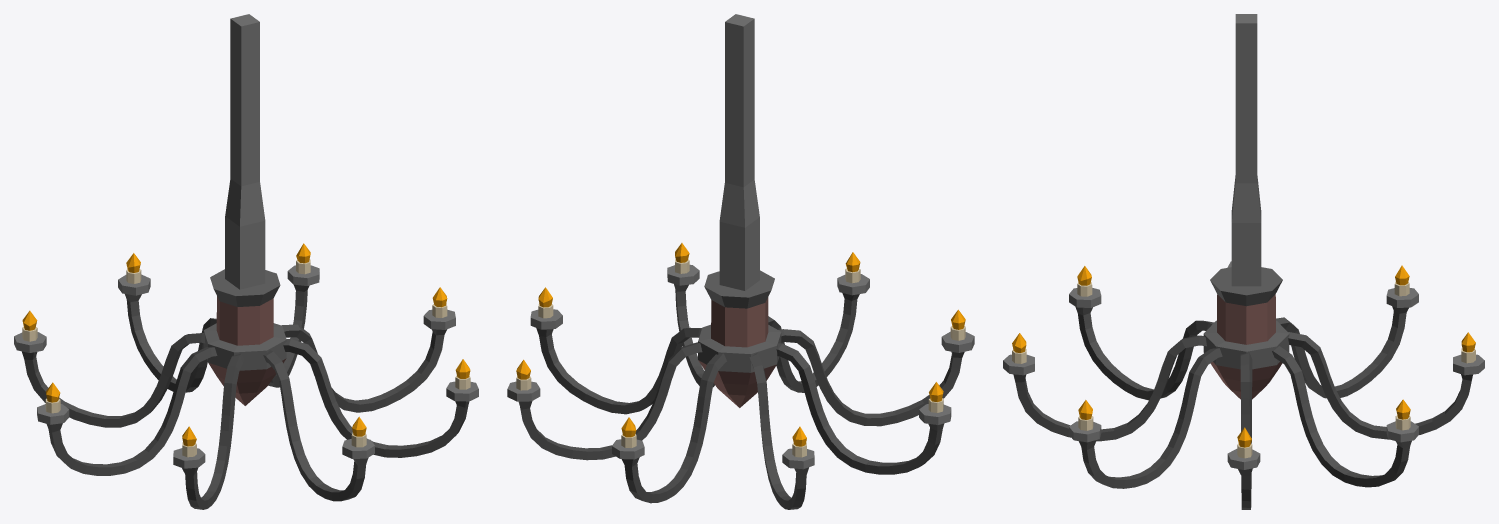
The model's file is Chandelier.fbx.
3 views of the same model, side by side, from view 1: azimuth 30°, elevation 25°; view 2: azimuth 150°, elevation 25°; view 3: azimuth 270°, elevation 25° (orthographic).
Parts seen in each view (by area): view 1: Chandelier; view 2: Chandelier; view 3: Chandelier.
Boxes of the visible parts, x1,y1,x2,y2 form: Chandelier: (14,14,478,509); Chandelier: (507,14,974,509); Chandelier: (1003,14,1484,509).
Size of the model in its own units: 989 by 952 by 989.
